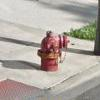Hydrant: (33, 24, 73, 83)
